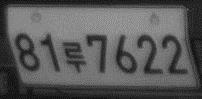1: (40, 32, 61, 74)
2: (161, 33, 190, 76), (136, 33, 164, 75)
6: (115, 34, 138, 75)
7: (85, 32, 108, 75)
8: (13, 32, 41, 71)
루: (61, 40, 86, 75)
